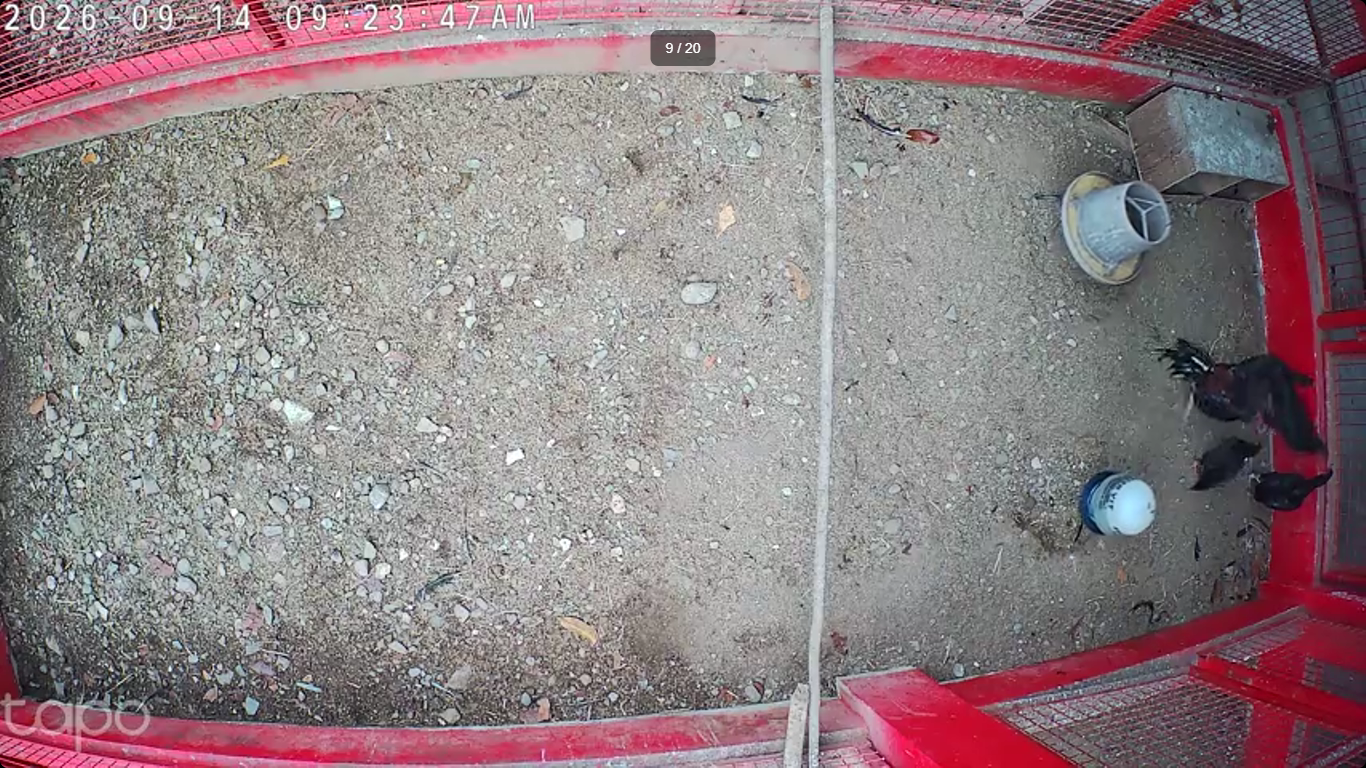Chicken: (1250, 350, 1324, 458), (1181, 434, 1264, 496), (1244, 463, 1338, 510)
Drinker: (1077, 468, 1159, 539)
Feeder: (1059, 168, 1172, 286)
Rooster: (1147, 328, 1270, 437)
